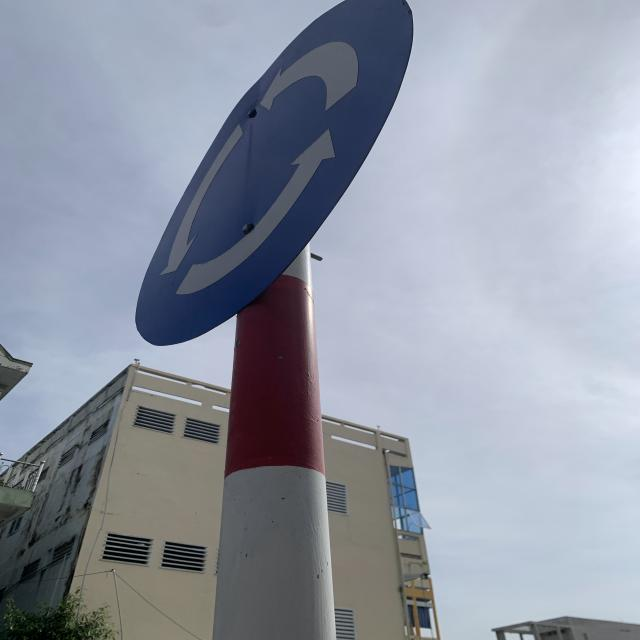Xe_Bus: (133, 0, 415, 348)
